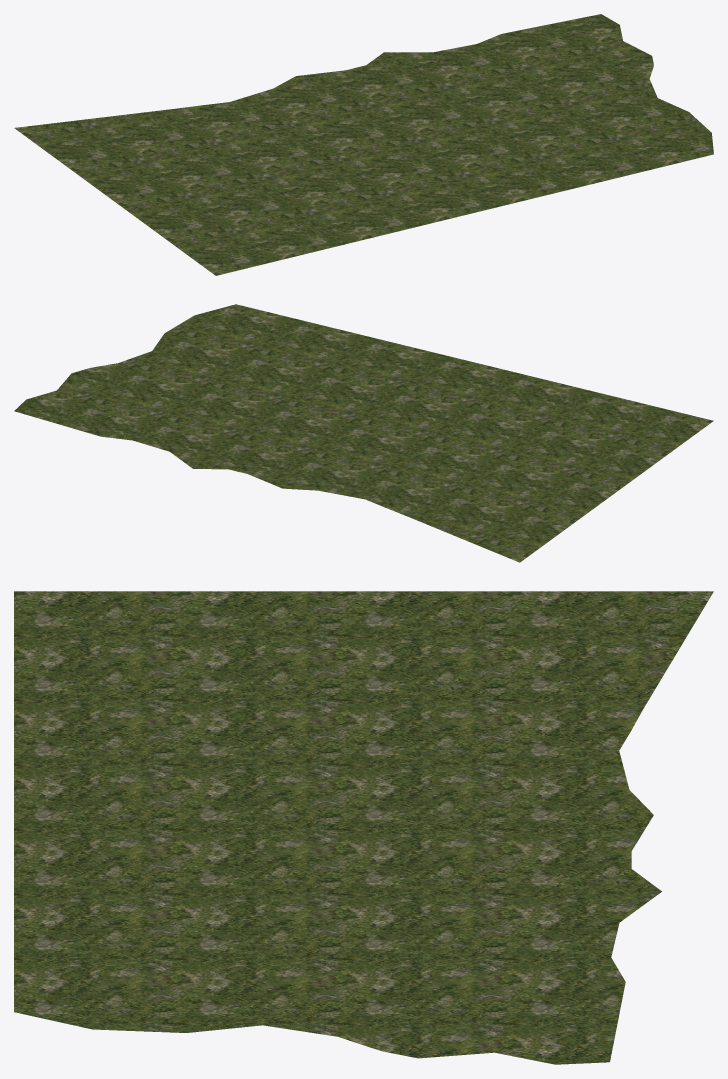
File: CB_NEWPLAYSURFACE_CB_PLAYSURFACE12.fbx
The picture shows the model from 3 angles, top to bottom: view 1: azimuth 30°, elevation 25°; view 2: azimuth 150°, elevation 25°; view 3: azimuth 270°, elevation 25°; orthographic projection. The views are drawn at different scales.
Parts seen in each view (by area): view 1: CB_NEWPLAYSURFACE_CB_PLAYSURFACE12; view 2: CB_NEWPLAYSURFACE_CB_PLAYSURFACE12; view 3: CB_NEWPLAYSURFACE_CB_PLAYSURFACE12.
Part boxes in pixels (<box>): CB_NEWPLAYSURFACE_CB_PLAYSURFACE12: <box>14,14,713,275</box>; CB_NEWPLAYSURFACE_CB_PLAYSURFACE12: <box>14,304,713,562</box>; CB_NEWPLAYSURFACE_CB_PLAYSURFACE12: <box>14,591,713,1064</box>.
Bounding box in the file's own units: 560858 × 29.79 × 350422.
1 material, 1 textured.
